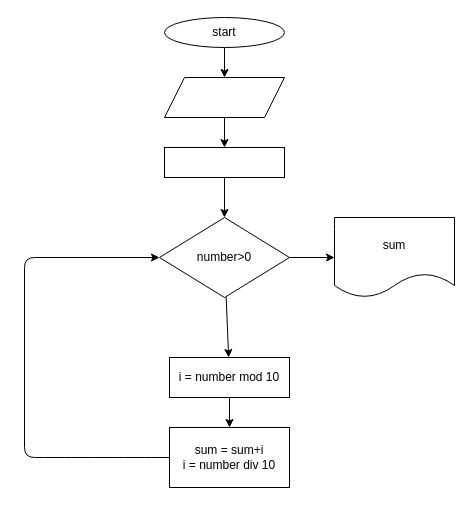
The diagram is 472 pixels wide and 505 high, and some of its shapes have lost their labels. Each missing label, with the centre of its shape:
"int number int i" goes at (x=224, y=97).
"sum = 0" goes at (x=224, y=162).
